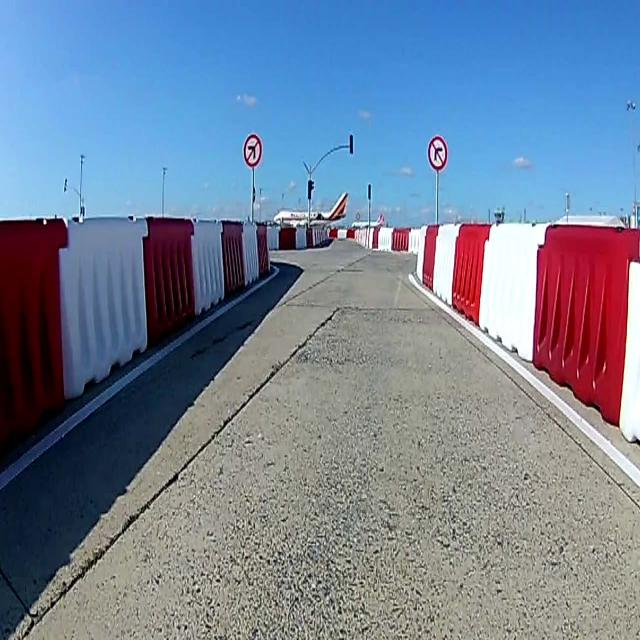sagadonulmez: (428, 134, 448, 171)
soladonulmez: (242, 134, 262, 166)
